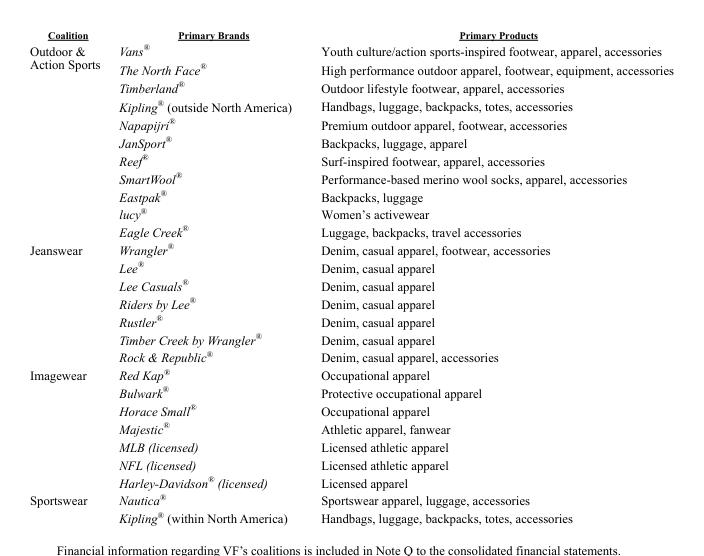table: (28, 28, 673, 525)
table column: (305, 28, 673, 525), (108, 28, 305, 525), (28, 28, 108, 525)
table column header: (28, 28, 673, 40)
table row: (28, 40, 673, 59), (28, 77, 673, 96), (28, 418, 673, 437), (28, 59, 673, 77), (28, 96, 673, 114), (28, 114, 673, 132), (28, 132, 673, 150), (28, 150, 673, 168), (28, 168, 673, 186), (28, 186, 673, 204), (28, 204, 673, 222), (28, 222, 673, 240), (28, 257, 673, 275), (28, 275, 673, 293), (28, 293, 673, 311), (28, 311, 673, 329), (28, 329, 673, 347), (28, 347, 673, 365), (28, 365, 673, 383), (28, 400, 673, 418), (28, 437, 673, 455), (28, 472, 673, 490), (28, 490, 673, 508), (28, 240, 673, 257), (28, 383, 673, 400), (28, 455, 673, 472), (28, 508, 673, 525), (28, 28, 673, 40)
table spanning cell: (28, 40, 108, 240), (28, 240, 108, 365), (28, 365, 108, 490), (28, 490, 108, 525)
